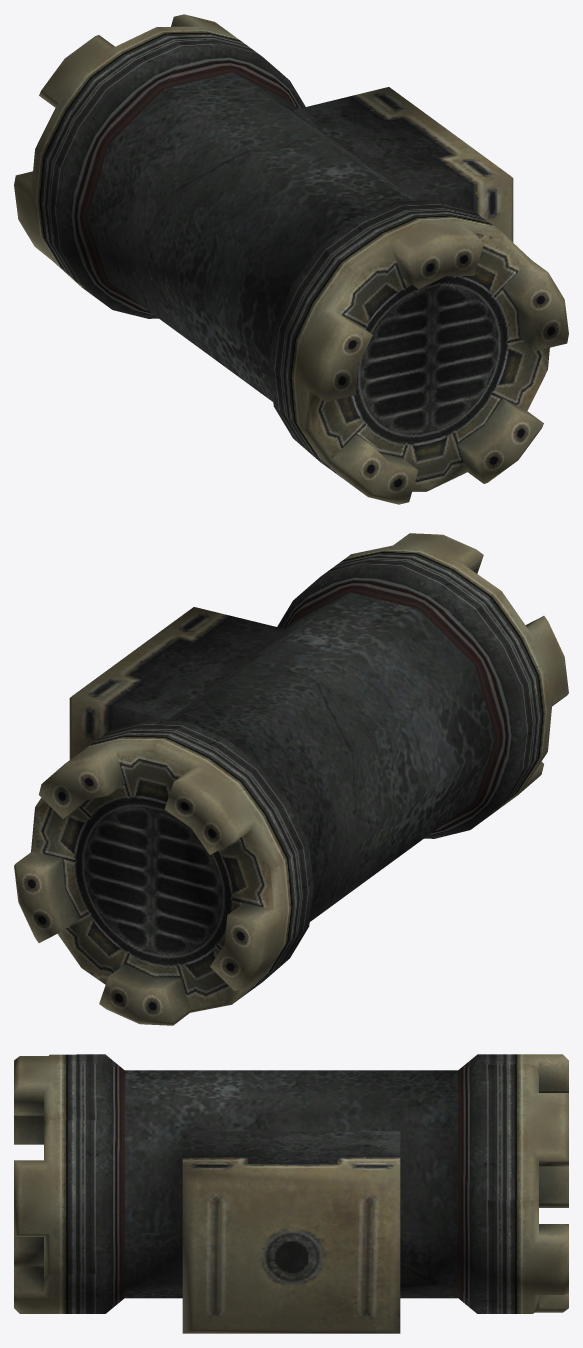
Rendered from tech_pipe_valve.dae.
The picture shows the model from 3 angles, top to bottom: view 1: azimuth 30°, elevation 25°; view 2: azimuth 150°, elevation 25°; view 3: azimuth 270°, elevation 25°; orthographic projection. The views are drawn at different scales.
Parts seen in each view (by area): view 1: valve_pipe; view 2: valve_pipe; view 3: valve_pipe.
Boxes of the visible parts, bbox=[...] form: valve_pipe: bbox=[14, 14, 568, 504]; valve_pipe: bbox=[14, 533, 568, 1025]; valve_pipe: bbox=[14, 1054, 568, 1333].
Bounding box in the file's own units: 0.5787 × 0.5035 × 1.06.
1 material, 1 textured.
